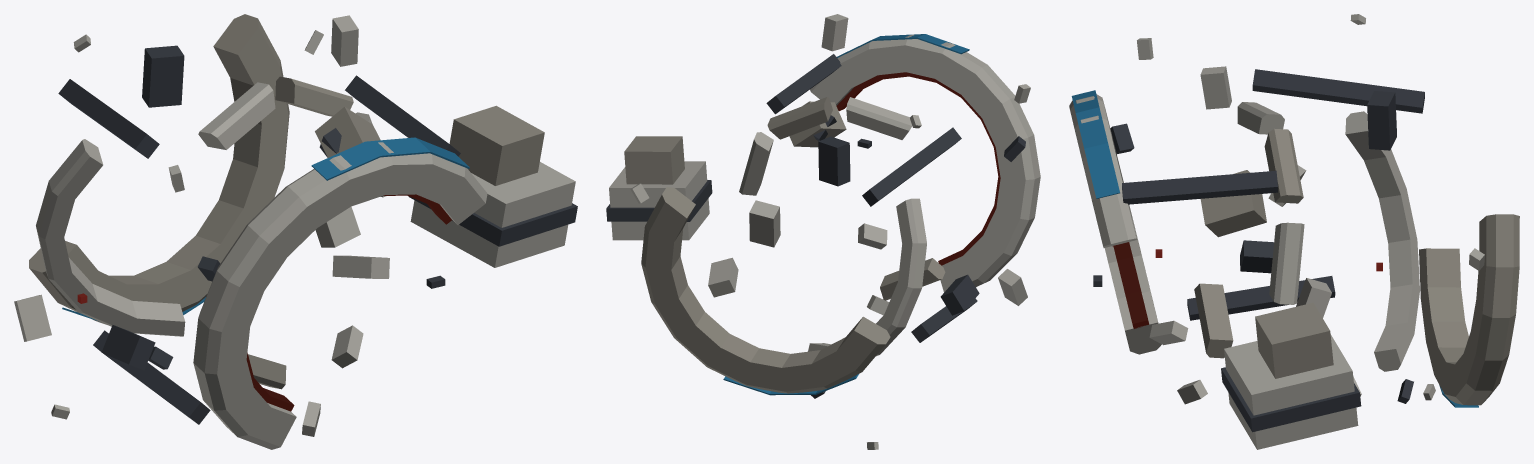
Rendered from gate_destroyed.glb.
3 views of the same model, side by side, from view 1: azimuth 30°, elevation 25°; view 2: azimuth 150°, elevation 25°; view 3: azimuth 270°, elevation 25° (orthographic). The views are drawn at different scales.
Parts seen in each view (by area): view 1: GateDestroyed; view 2: GateDestroyed; view 3: GateDestroyed.
Part boxes in pixels (box(x1,y1,x2,y2)): GateDestroyed: box(14, 14, 577, 449); GateDestroyed: box(606, 14, 1040, 449); GateDestroyed: box(1069, 14, 1519, 449).
Size of the model in its own units: 4.77 by 3.76 by 3.8.
